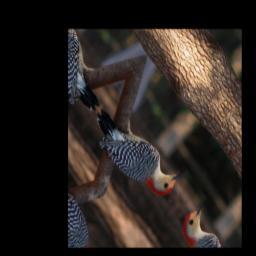Woodpecker: (87, 82, 190, 218)
